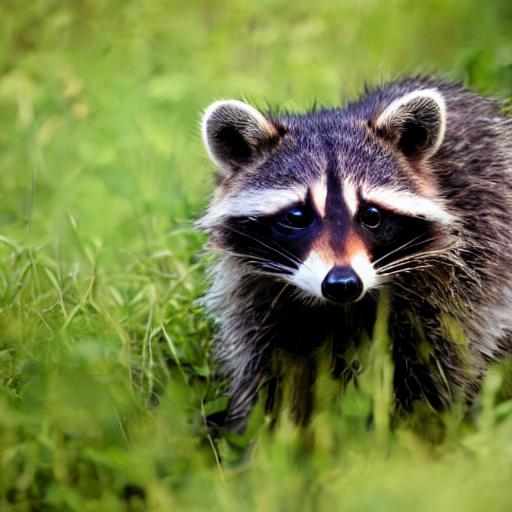raccoon: (166, 63, 512, 455)
